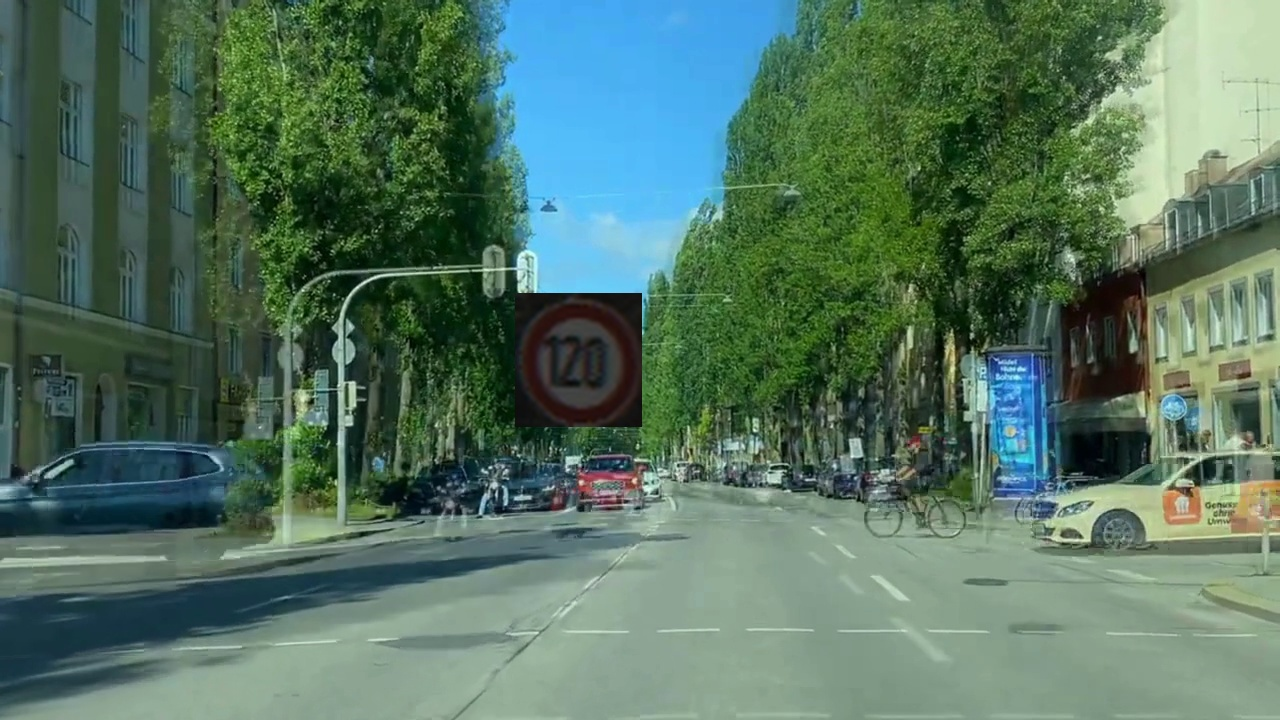Speed 120: (515, 293, 642, 427)
